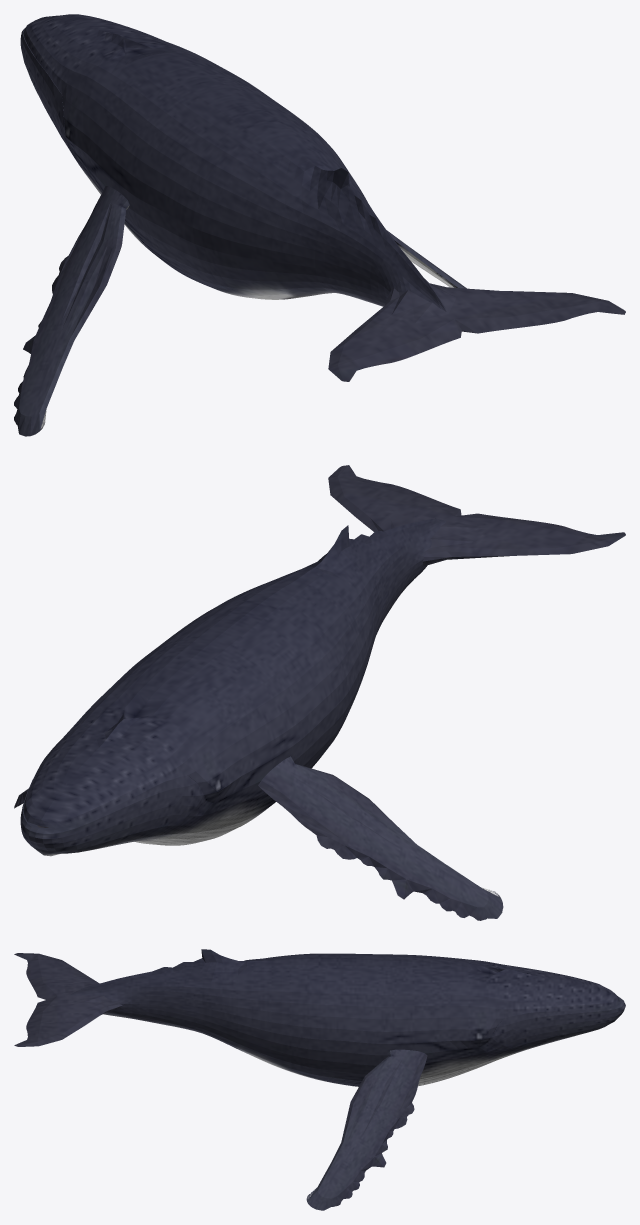
The model's file is whale.glb.
3 views of the same model, one above another, from view 1: azimuth 30°, elevation 25°; view 2: azimuth 150°, elevation 25°; view 3: azimuth 270°, elevation 25° (orthographic). The views are drawn at different scales.
Bounding box in the file's own units: 1.53 × 0.8228 × 2.5.
1 material, 1 textured.
